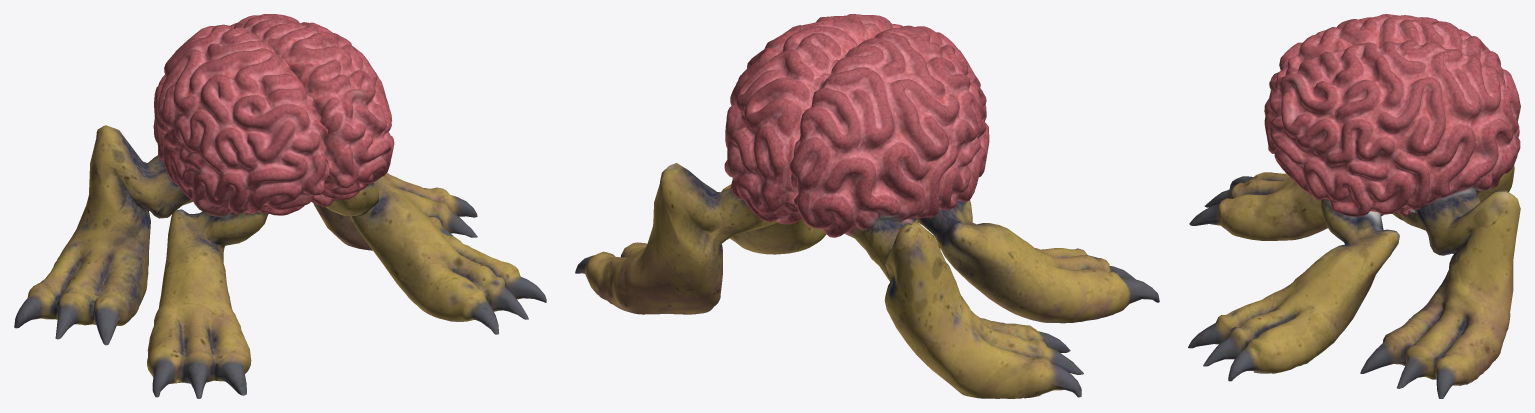
File: MZ4250 - Intellect Devourer.glb
3 views of the same model, side by side, from view 1: azimuth 30°, elevation 25°; view 2: azimuth 150°, elevation 25°; view 3: azimuth 270°, elevation 25° (orthographic). The views are drawn at different scales.
Visible parts, largest first — view 1: default; view 2: default; view 3: default.
Boxes of the visible parts, left/top/right/bottom form: default: left=14, top=14, right=546, bottom=398; default: left=575, top=14, right=1159, bottom=398; default: left=1188, top=14, right=1520, bottom=398.
Size of the model in its own units: 0.4749 by 0.2511 by 0.2968.
1 material, 1 textured.
